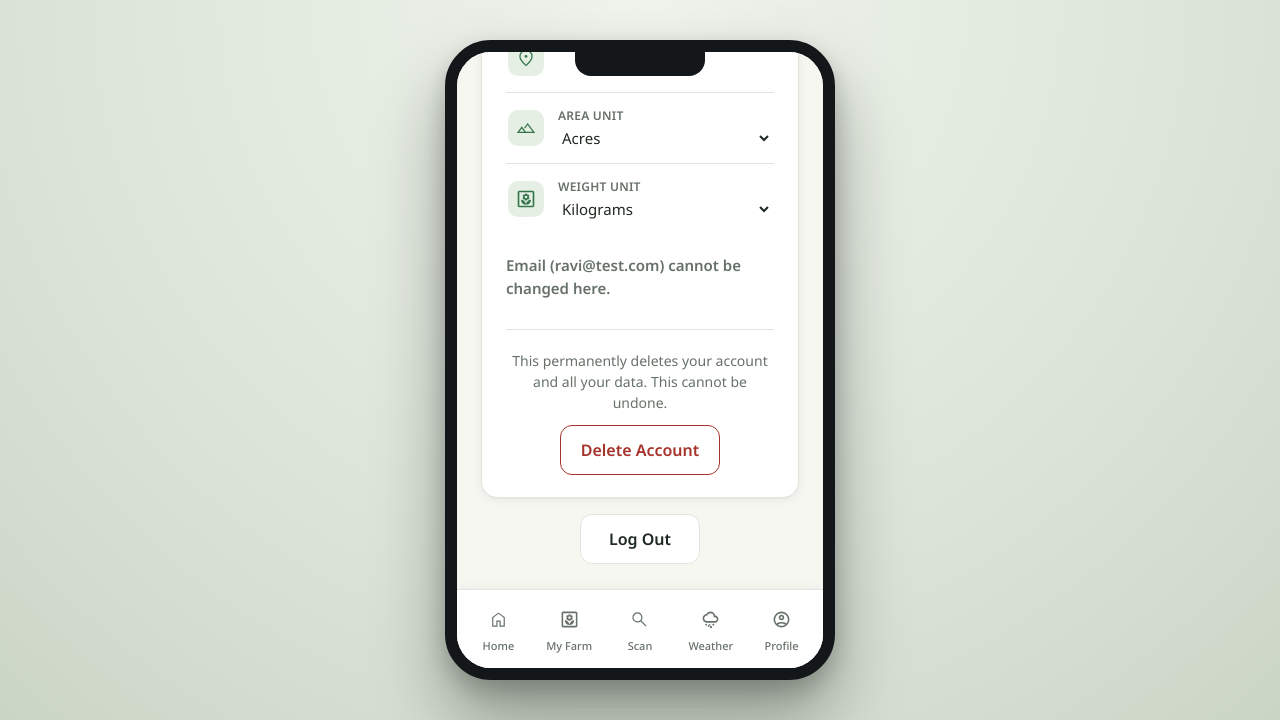
it: ProfilePage › Delete Account › reveals a password-confirm step when Delete Account is clicked, and Cancel hides it again
The image size is (1280, 720).
(page scrolled)
Click the button "Delete Account".
click(640, 450)  # box [560, 425, 720, 475]
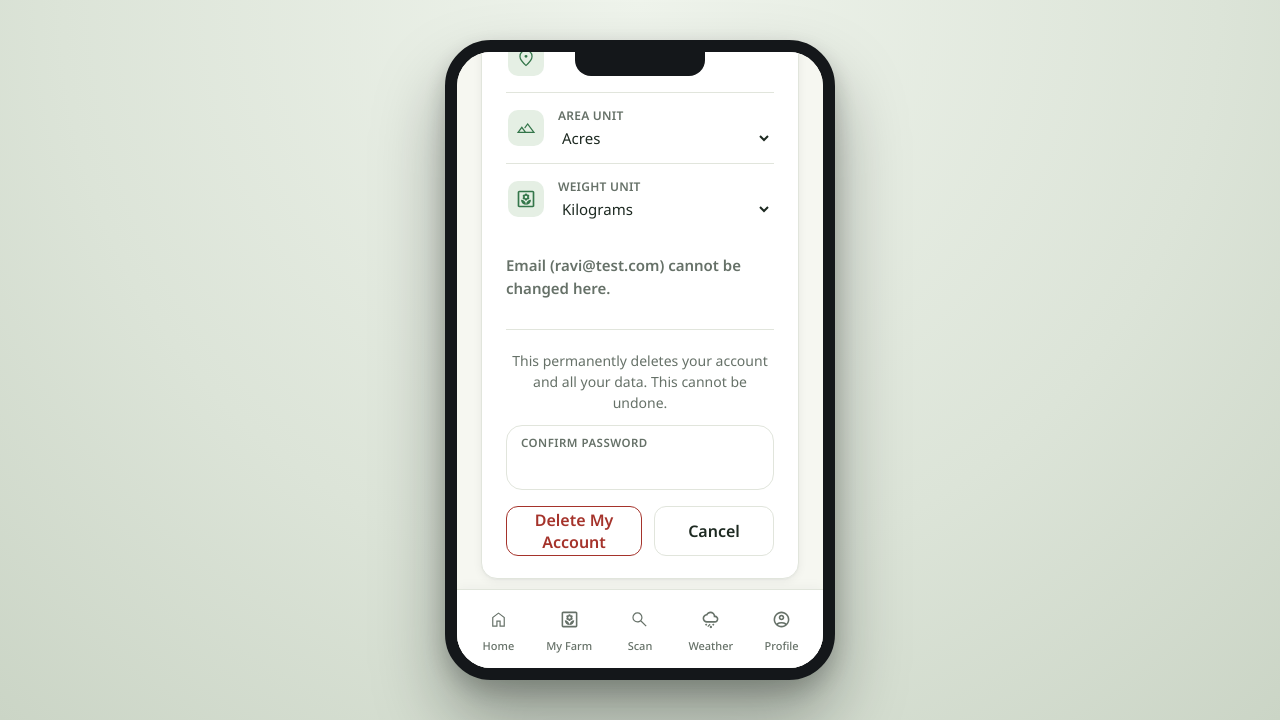
Click the button "Cancel".
click(714, 531)  # box [654, 506, 774, 556]
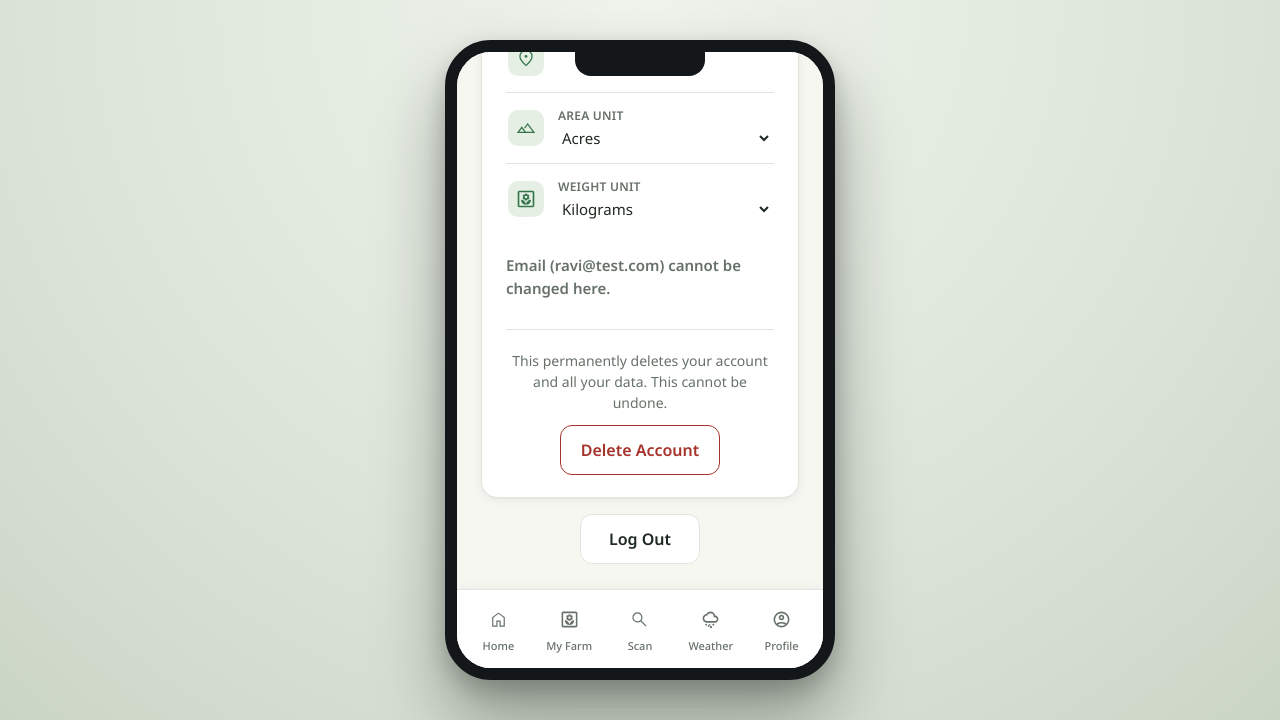
Now the label labelled "Confirm Password" is gone
